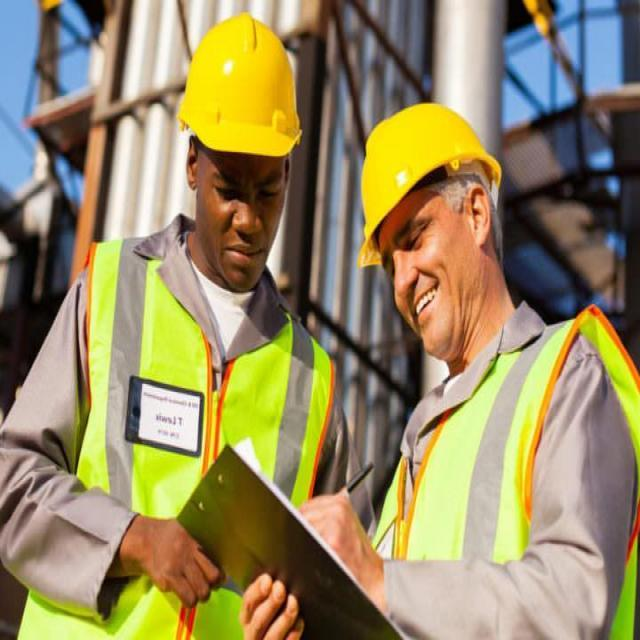reflective_jacket: (26, 233, 339, 635), (368, 309, 639, 633)
safety_helmet: (351, 92, 506, 262), (173, 10, 302, 164)
